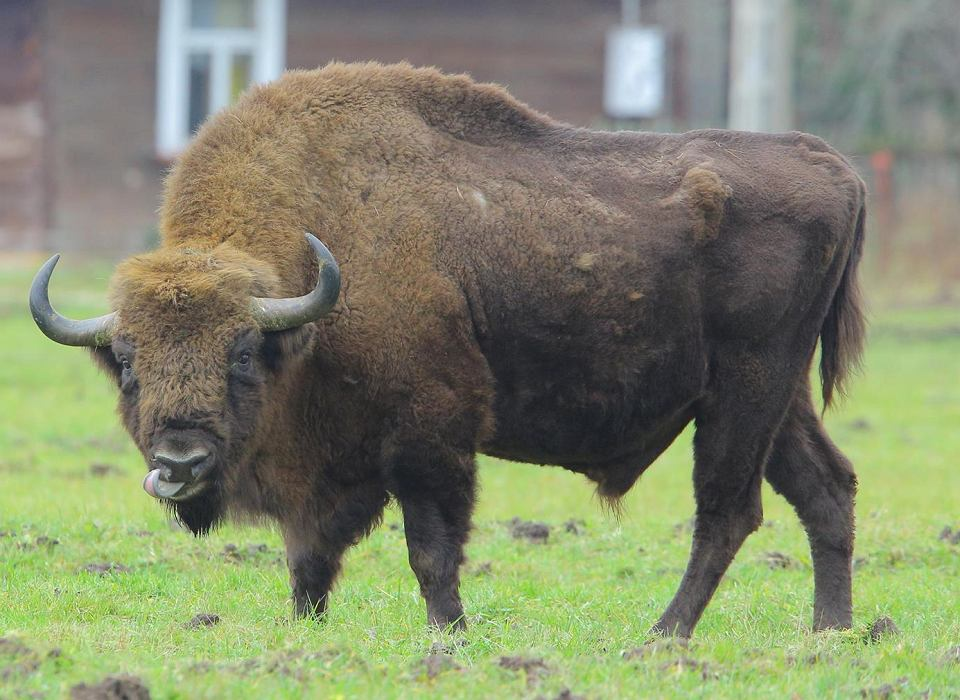zubr: (9, 37, 959, 663)
